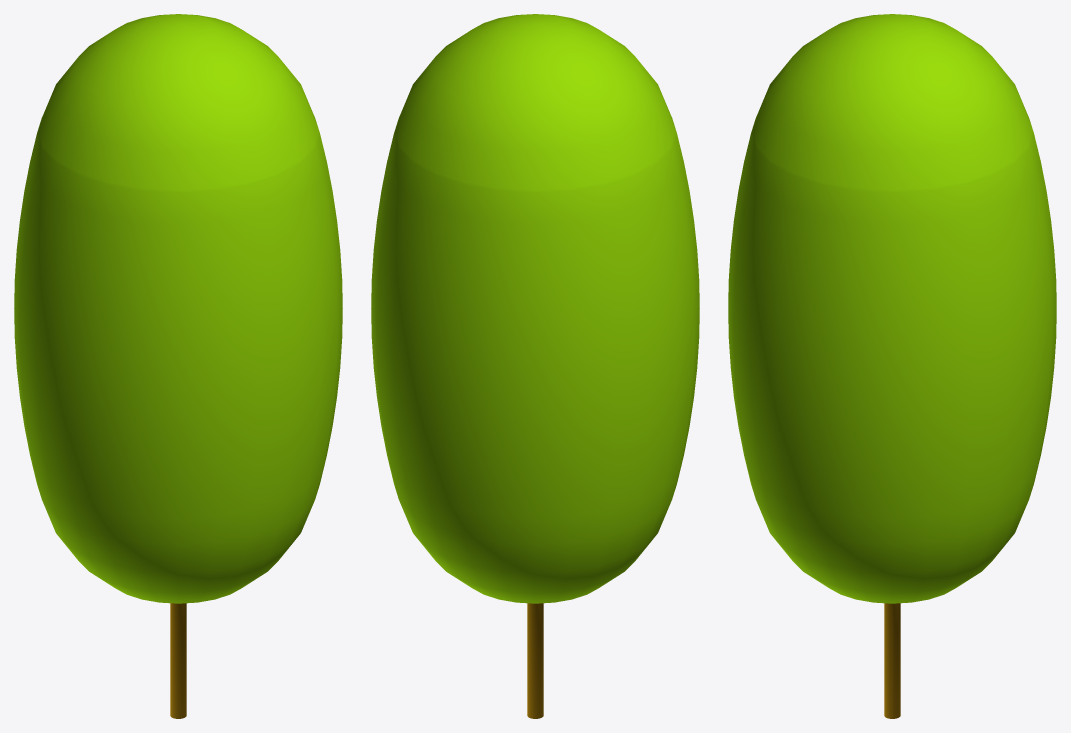
3 views of the same model, side by side, from view 1: azimuth 30°, elevation 25°; view 2: azimuth 150°, elevation 25°; view 3: azimuth 270°, elevation 25° (orthographic).
Visible parts, largest first — view 1: LP14m; view 2: LP14m; view 3: LP14m.
Part boxes in pixels (<box>): LP14m: <box>14,14,342,718</box>; LP14m: <box>371,14,699,718</box>; LP14m: <box>728,14,1056,718</box>.
Bounding box in the file's own units: 6.04 × 14 × 6.04.
